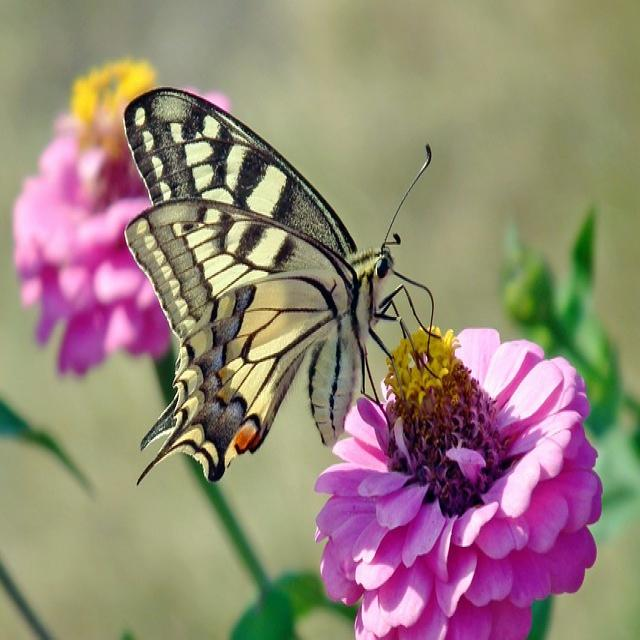butterfly: (122, 87, 434, 484)
